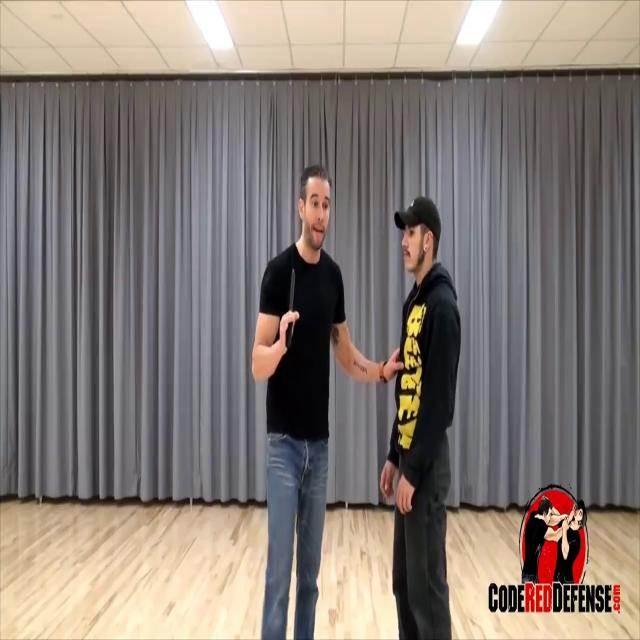Knife_Handle: (280, 269, 300, 353)
